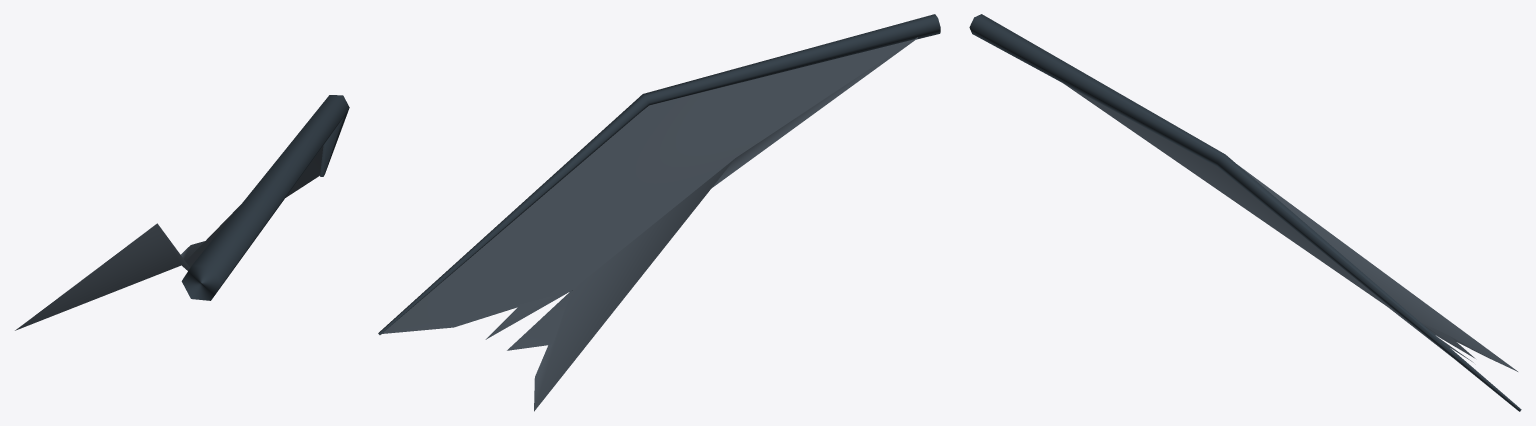
The model's file is R_Wing_Membrane_2.obj.
3 views of the same model, side by side, from view 1: azimuth 30°, elevation 25°; view 2: azimuth 150°, elevation 25°; view 3: azimuth 270°, elevation 25° (orthographic). The views are drawn at different scales.
Visible parts, largest first — view 1: R_Wing_Membrane_2; view 2: R_Wing_Membrane_2; view 3: R_Wing_Membrane_2.
Part boxes in pixels (left/top/right/bottom): R_Wing_Membrane_2: left=15, top=95, right=349, bottom=330; R_Wing_Membrane_2: left=378, top=14, right=940, bottom=411; R_Wing_Membrane_2: left=969, top=14, right=1521, bottom=411.
Bounding box in the file's own units: 3.94 × 2.99 × 5.45.
